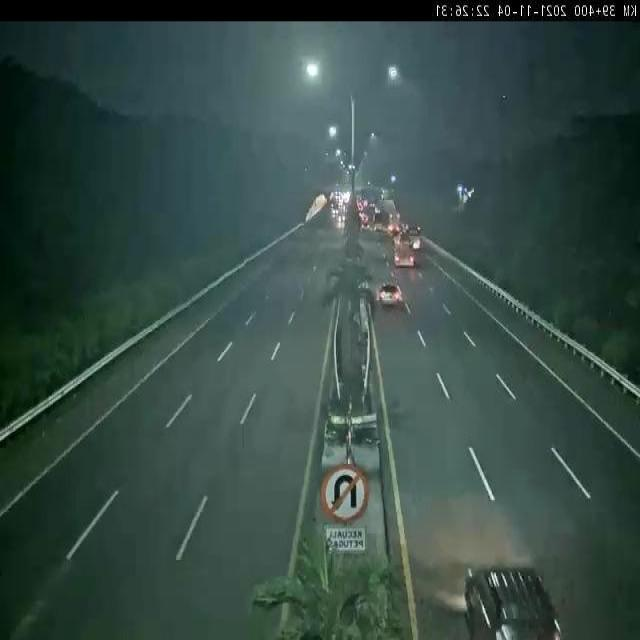Car: (463, 560, 559, 640), (376, 269, 407, 319)
Truck: (392, 231, 418, 270)
